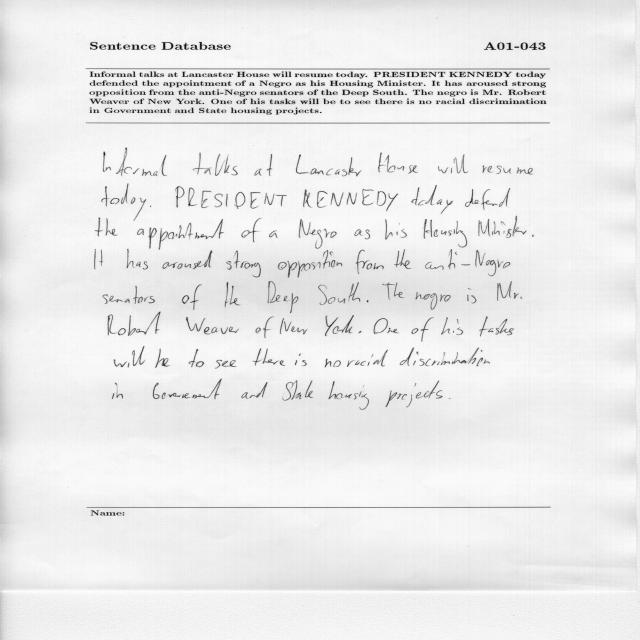word: (137, 219, 224, 250), (175, 186, 287, 209), (425, 249, 510, 276), (303, 189, 398, 211), (103, 148, 167, 176), (278, 250, 342, 278), (400, 348, 490, 367), (102, 184, 146, 221), (385, 381, 443, 408), (296, 155, 361, 177), (153, 379, 222, 399), (108, 312, 161, 336), (424, 219, 467, 248), (411, 185, 453, 214), (328, 381, 369, 410), (299, 219, 337, 249), (193, 152, 238, 176), (478, 216, 527, 238), (465, 188, 510, 210), (318, 282, 360, 305), (268, 281, 298, 313), (163, 251, 213, 270), (226, 251, 261, 278), (103, 286, 155, 304), (186, 317, 239, 334), (378, 152, 418, 174), (479, 316, 514, 336), (347, 350, 388, 367), (355, 250, 384, 274), (114, 347, 145, 368), (415, 292, 451, 310), (282, 381, 313, 401), (325, 315, 354, 336), (253, 348, 285, 366), (438, 155, 468, 174), (412, 317, 434, 342), (497, 281, 523, 301), (241, 218, 262, 242), (182, 284, 201, 310), (126, 249, 148, 270), (482, 166, 533, 175), (242, 382, 268, 399), (385, 220, 407, 240), (280, 318, 307, 334), (96, 218, 118, 237), (225, 282, 241, 308), (373, 318, 399, 334), (255, 154, 273, 176), (383, 282, 405, 300), (256, 316, 274, 338), (441, 317, 463, 335), (394, 249, 412, 269), (155, 349, 170, 368), (189, 349, 204, 367), (215, 360, 236, 369), (94, 250, 103, 270), (112, 383, 123, 399), (295, 354, 307, 367), (324, 359, 341, 368), (355, 230, 370, 240), (467, 288, 477, 303), (269, 231, 278, 238), (532, 234, 534, 237), (359, 331, 362, 333), (367, 301, 369, 303), (449, 398, 451, 399), (150, 206, 151, 207)
